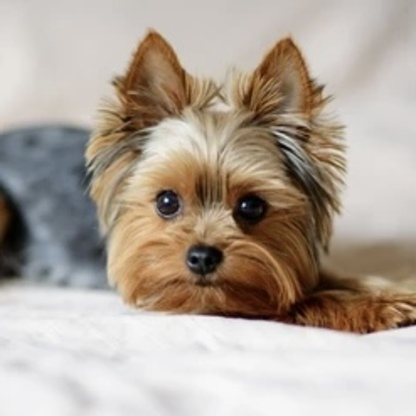yorkshire: (88, 25, 345, 313)
